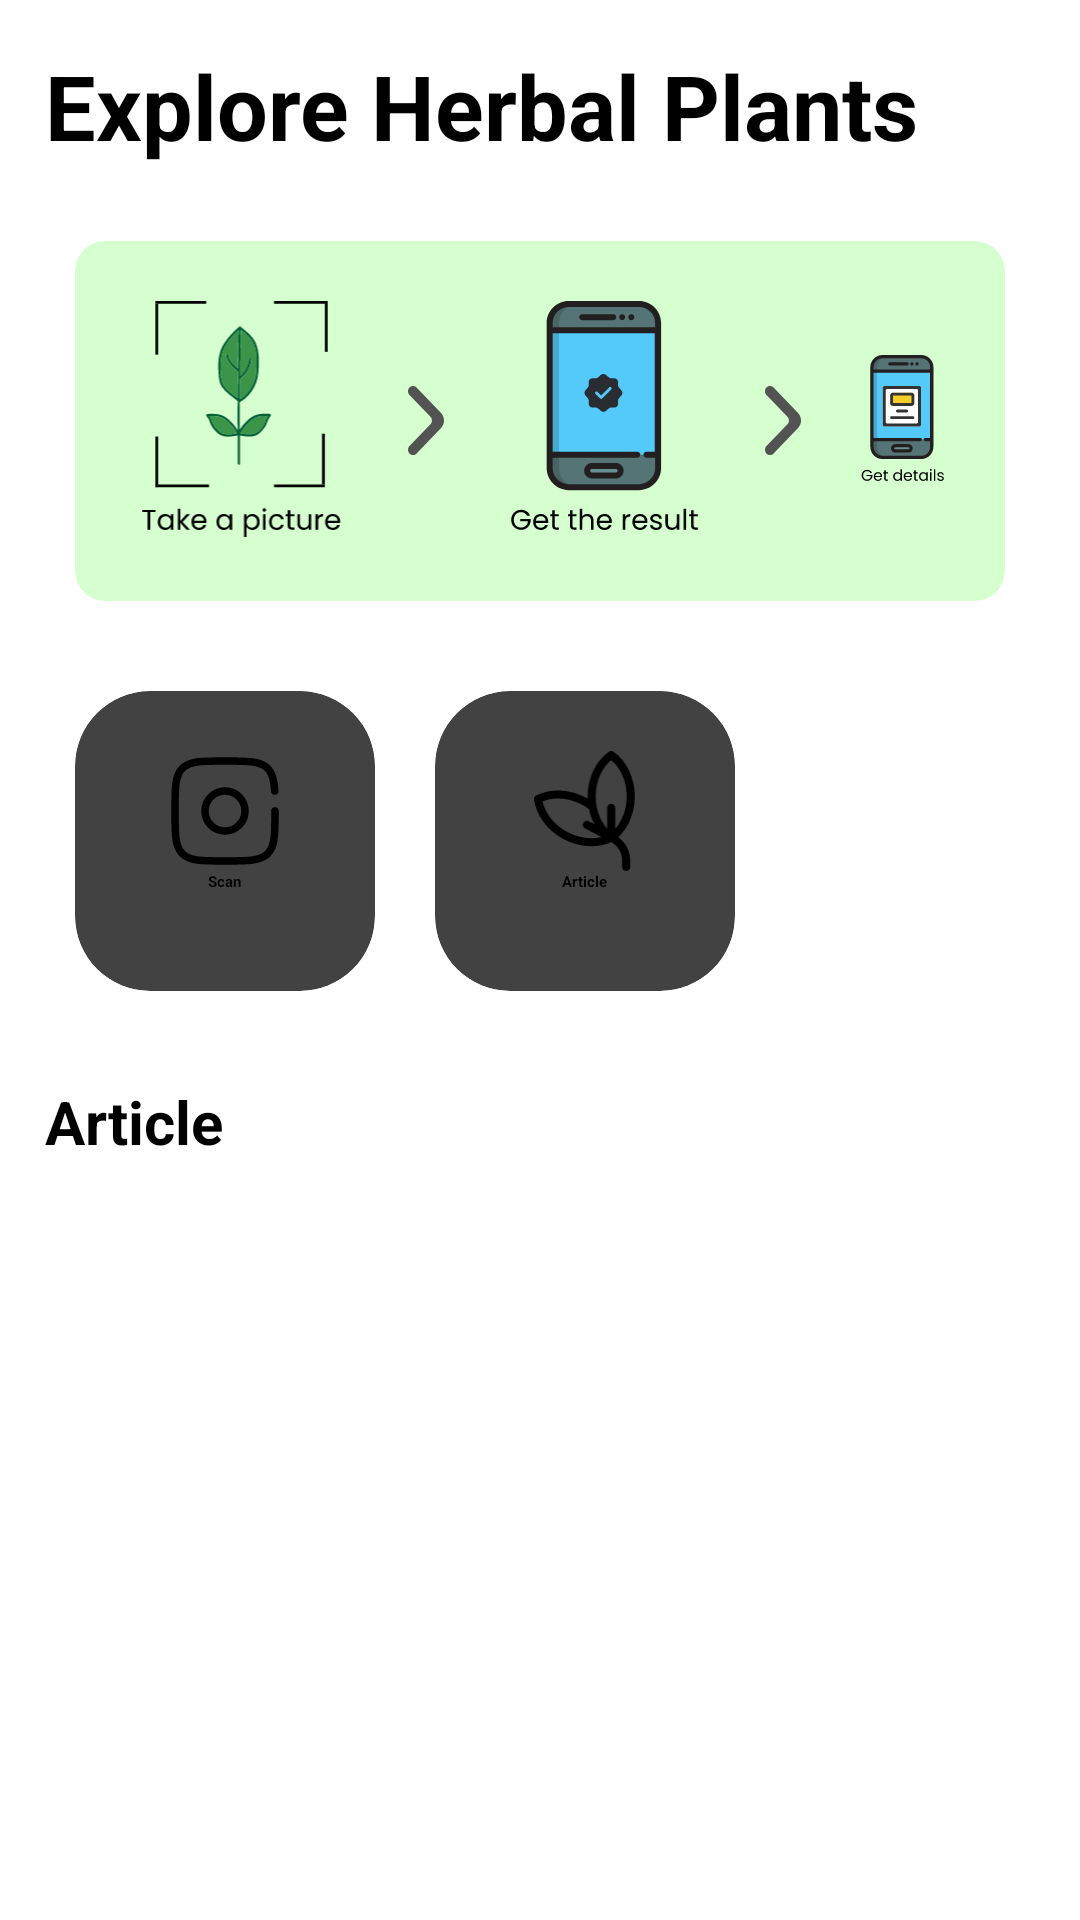

Where icons sit on this 1080px×1920px app screen, as bbox=(x1, y1, x2, y2):
camera: bbox=(171, 757, 279, 865)
